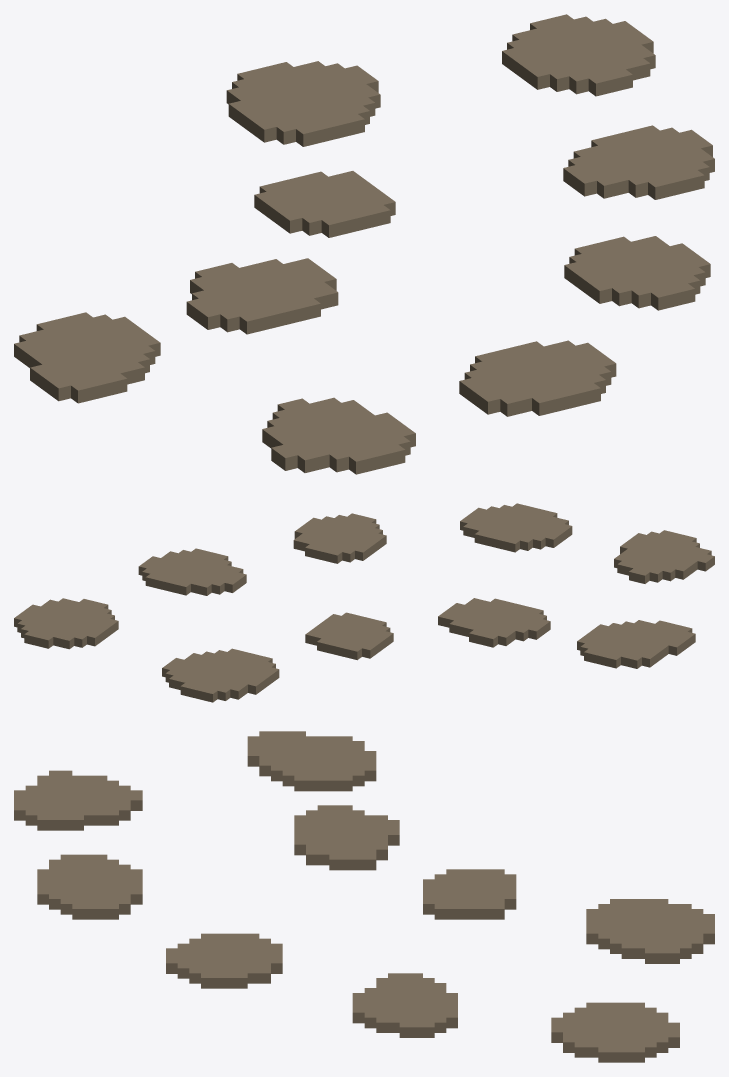
The model's file is Korean_floor_03.FBX.
3 views of the same model, one above another, from view 1: azimuth 30°, elevation 25°; view 2: azimuth 150°, elevation 25°; view 3: azimuth 270°, elevation 25° (orthographic). The views are drawn at different scales.
Parts seen in each view (by area): view 1: Voxel_Korean_traditional village-12; view 2: Voxel_Korean_traditional village-12; view 3: Voxel_Korean_traditional village-12.
Boxes of the visible parts, <box> form: Voxel_Korean_traditional village-12: <box>14,14,714,474</box>; Voxel_Korean_traditional village-12: <box>14,503,714,702</box>; Voxel_Korean_traditional village-12: <box>14,731,714,1062</box>.
Bounding box in the file's own units: 64.99 × 0.9998 × 59.99.
1 material, 1 textured.
